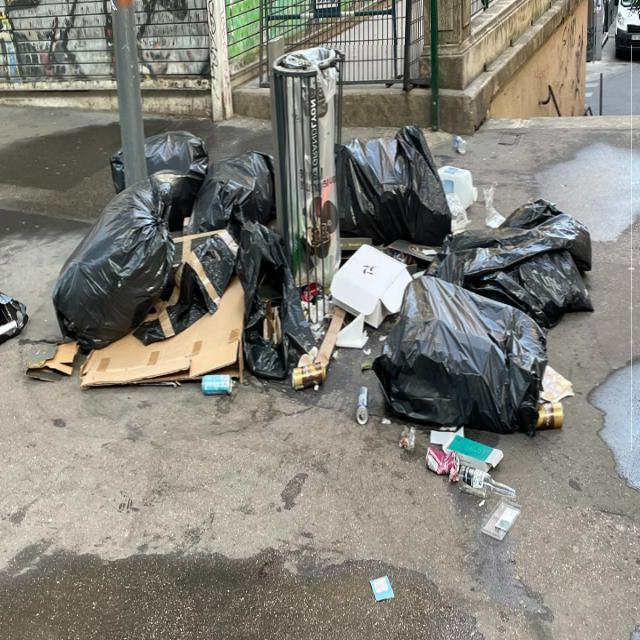Trashbag: (381, 279, 559, 426), (40, 174, 180, 350), (445, 198, 599, 307), (341, 123, 457, 239), (192, 148, 276, 251), (102, 120, 196, 189)
